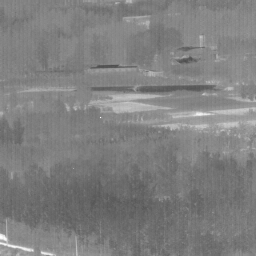aircraft: (100, 116, 102, 118)
